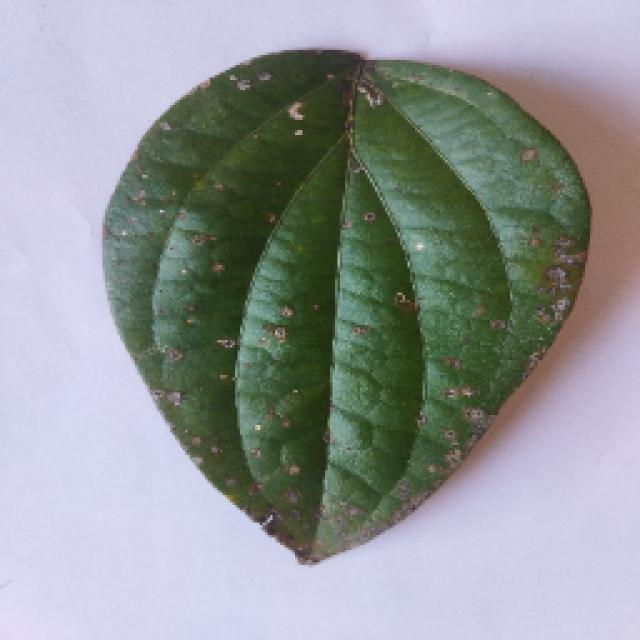pollu-disease: (100, 48, 582, 560)
